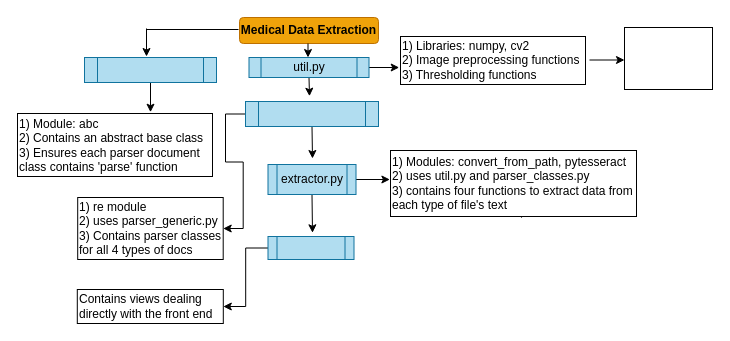
Image size: 730x341. Some labels were removed from this diagram. The shapes that lost their labels are listed below. From the top down, each one's centre as x and y in pixels, then its label:
the point at 150,69: parser_generic.py
the point at 668,58: 1) Graying 2) Resizing 3) ROI 4) Thresholding
the point at 311,113: parser_classes.py
the point at 310,248: views.py
